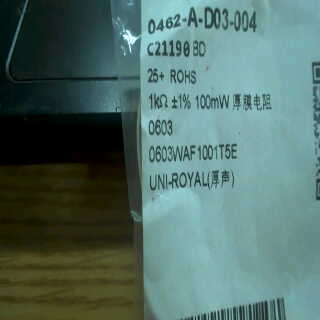1kR: (144, 88, 171, 117)
